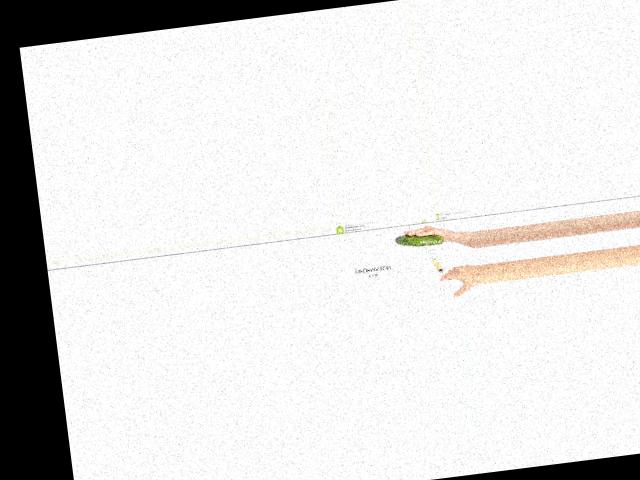cucumber: (395, 230, 444, 249)
